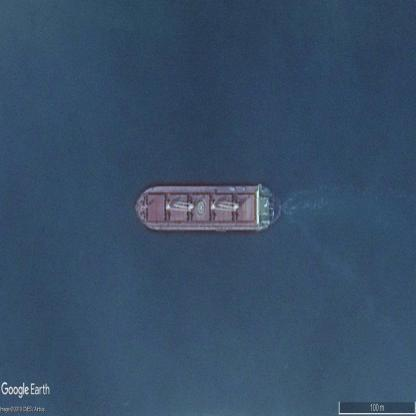ship: (136, 186, 282, 228)
